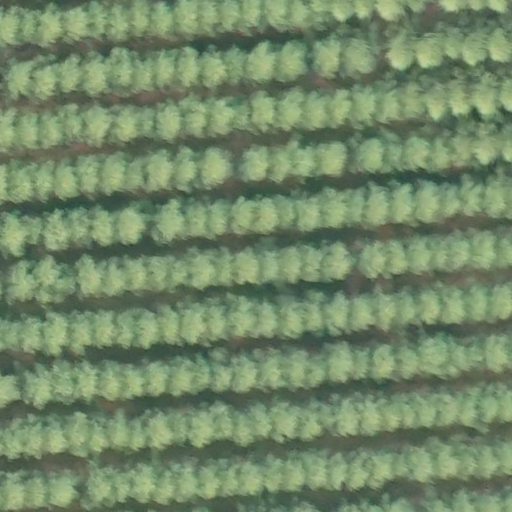eucalipto: (71, 251, 110, 302), (33, 255, 75, 302), (88, 463, 128, 507), (100, 148, 132, 200), (198, 143, 233, 190), (446, 335, 482, 378), (153, 201, 188, 245), (187, 403, 219, 451), (469, 118, 500, 167), (464, 222, 495, 271), (416, 332, 449, 378), (341, 33, 377, 75), (224, 293, 258, 337), (322, 338, 354, 384), (225, 193, 259, 236), (107, 100, 140, 144), (322, 242, 357, 283), (322, 290, 351, 339), (298, 398, 331, 441), (482, 328, 512, 375), (178, 93, 209, 138), (384, 30, 417, 72), (4, 258, 34, 304), (351, 133, 383, 176), (277, 39, 308, 83), (405, 231, 436, 275), (412, 177, 441, 224), (48, 360, 77, 407), (47, 468, 81, 508), (401, 444, 434, 485), (40, 310, 70, 355), (2, 209, 29, 259), (64, 409, 91, 459), (363, 180, 391, 228), (65, 307, 93, 355), (105, 48, 134, 94), (421, 76, 450, 122), (274, 294, 305, 337), (302, 86, 330, 133), (42, 207, 71, 252), (129, 460, 158, 505), (315, 137, 346, 179), (81, 49, 108, 97), (332, 396, 362, 439), (170, 147, 198, 193), (312, 33, 340, 79), (456, 172, 484, 218), (461, 280, 490, 324), (269, 400, 298, 444), (432, 387, 463, 428), (117, 204, 148, 245), (441, 229, 471, 271), (347, 291, 375, 336), (92, 204, 120, 249), (245, 40, 274, 83), (346, 85, 375, 128), (357, 238, 386, 281), (228, 349, 257, 392), (57, 104, 86, 147), (238, 456, 267, 499), (142, 149, 171, 192), (155, 302, 183, 346), (232, 244, 260, 288), (38, 413, 68, 454), (237, 144, 270, 181), (369, 448, 398, 490), (370, 289, 397, 334), (36, 107, 63, 152), (287, 139, 315, 182), (149, 48, 177, 91), (33, 56, 59, 102), (471, 77, 500, 118), (200, 296, 227, 340), (146, 410, 177, 448), (370, 340, 398, 382), (196, 457, 224, 499), (179, 299, 205, 344), (55, 157, 81, 202), (169, 354, 196, 397), (132, 306, 160, 347), (282, 348, 308, 392), (415, 32, 445, 70), (174, 46, 200, 89), (231, 406, 258, 447), (141, 356, 168, 397), (247, 90, 276, 128), (377, 392, 403, 434), (295, 196, 325, 232), (255, 245, 282, 285), (144, 252, 171, 292), (97, 358, 122, 401), (63, 2, 88, 45), (324, 451, 349, 494), (474, 440, 500, 481), (278, 243, 302, 287), (462, 28, 489, 67), (106, 409, 131, 451), (404, 132, 429, 174), (152, 465, 177, 507), (34, 159, 58, 202), (24, 470, 49, 510), (475, 389, 501, 427), (416, 287, 440, 327), (283, 455, 308, 492), (489, 284, 512, 322), (1, 371, 21, 411)
